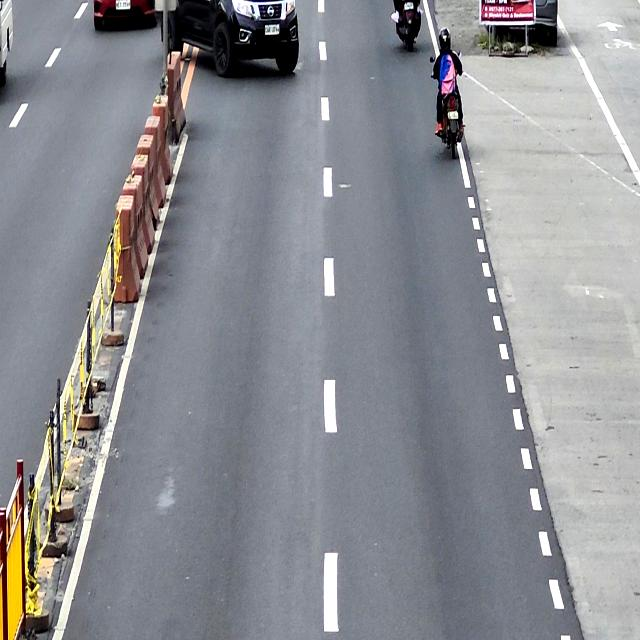Car: (161, 0, 300, 75)
License-Plate: (264, 23, 280, 36), (447, 109, 459, 121)
Motorcycle: (431, 50, 465, 159)
